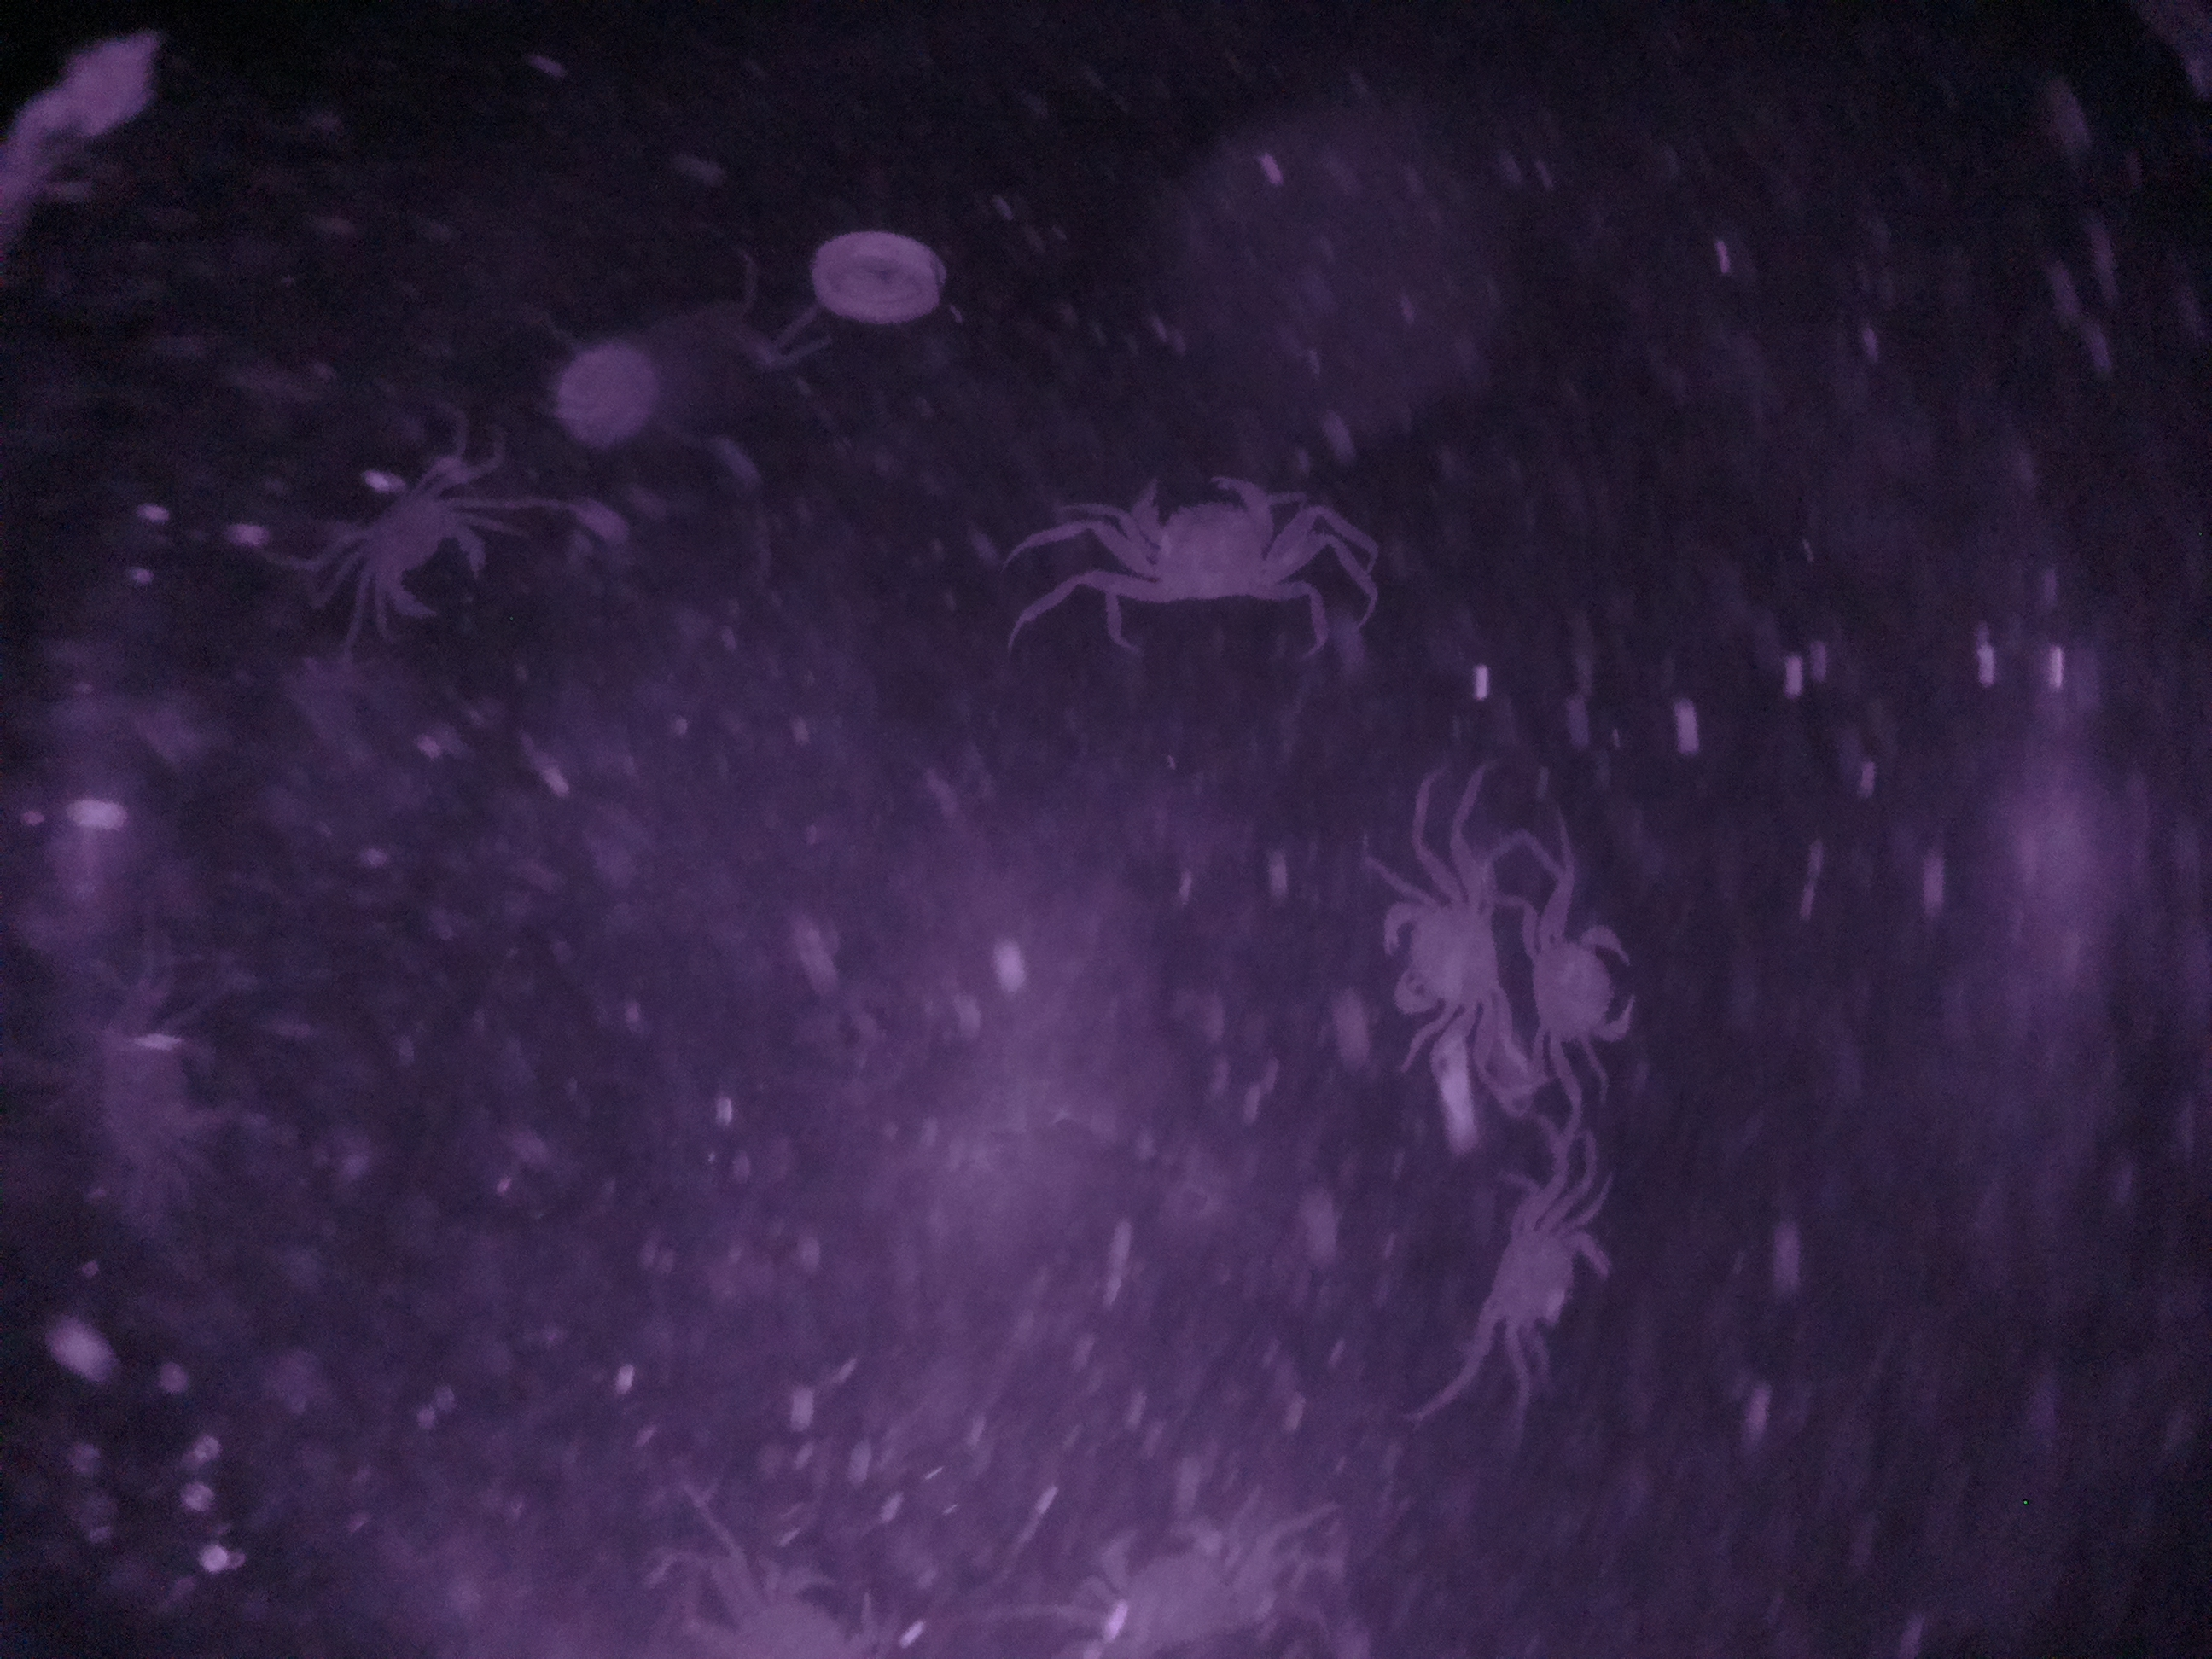Crab: (1080, 462, 1315, 619), (1357, 838, 1508, 1065), (1521, 885, 1649, 1082)
